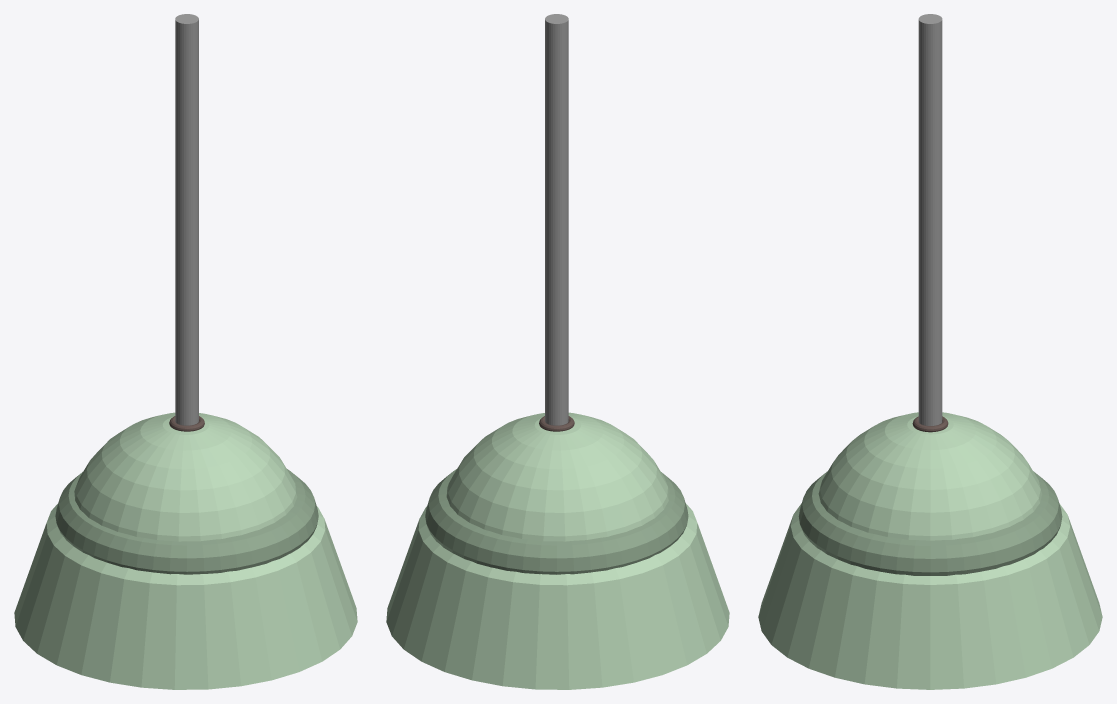
Rendered from LightGreen.fbx.
The picture shows the model from 3 angles, left to right: view 1: azimuth 30°, elevation 25°; view 2: azimuth 150°, elevation 25°; view 3: azimuth 270°, elevation 25°; orthographic projection.
Parts seen in each view (by area): view 1: Sphere, Torus.001, Cylinder; view 2: Sphere, Torus.001, Cylinder; view 3: Sphere, Torus.001, Cylinder.
Boxes of the visible parts, x1,y1,x2,y2 form: Sphere: [14, 412, 357, 689]; Torus.001: [55, 469, 318, 574]; Cylinder: [175, 14, 198, 425]; Sphere: [386, 412, 729, 689]; Torus.001: [425, 469, 688, 574]; Cylinder: [545, 14, 568, 425]; Sphere: [758, 412, 1102, 689]; Torus.001: [798, 471, 1062, 575]; Cylinder: [918, 14, 942, 425].
Bounding box in the file's own units: 288 × 590 × 288.
